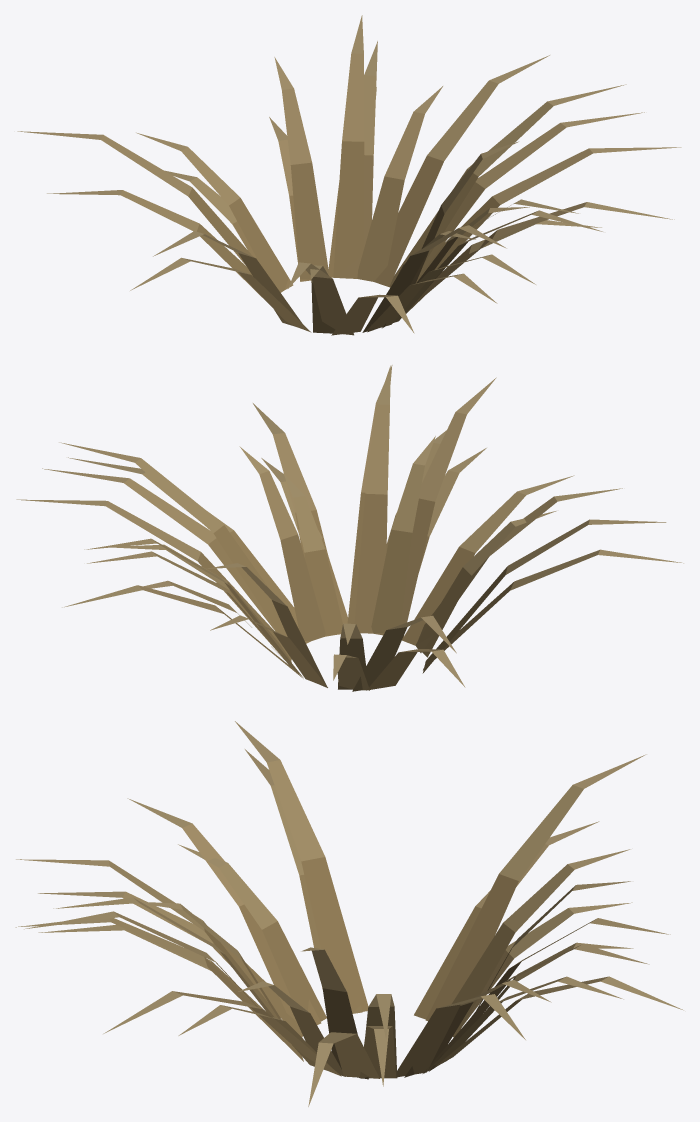
Rendered from winter_grass_tuft.glb.
3 views of the same model, one above another, from view 1: azimuth 30°, elevation 25°; view 2: azimuth 150°, elevation 25°; view 3: azimuth 270°, elevation 25° (orthographic). The views are drawn at different scales.
Parts seen in each view (by area): view 1: winter_grass_tuft; view 2: winter_grass_tuft; view 3: winter_grass_tuft.
Boxes of the visible parts, left/top/right/bottom form: winter_grass_tuft: left=17, top=15, right=681, bottom=335; winter_grass_tuft: left=16, top=365, right=683, bottom=691; winter_grass_tuft: left=15, top=721, right=683, bottom=1106.
Bounding box in the file's own units: 0.6136 × 0.1669 × 0.5153.
